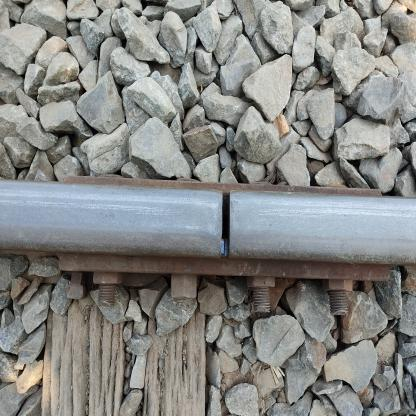Non Defective 2: (201, 184, 251, 272)
Non Defective 3: (52, 233, 408, 343)
